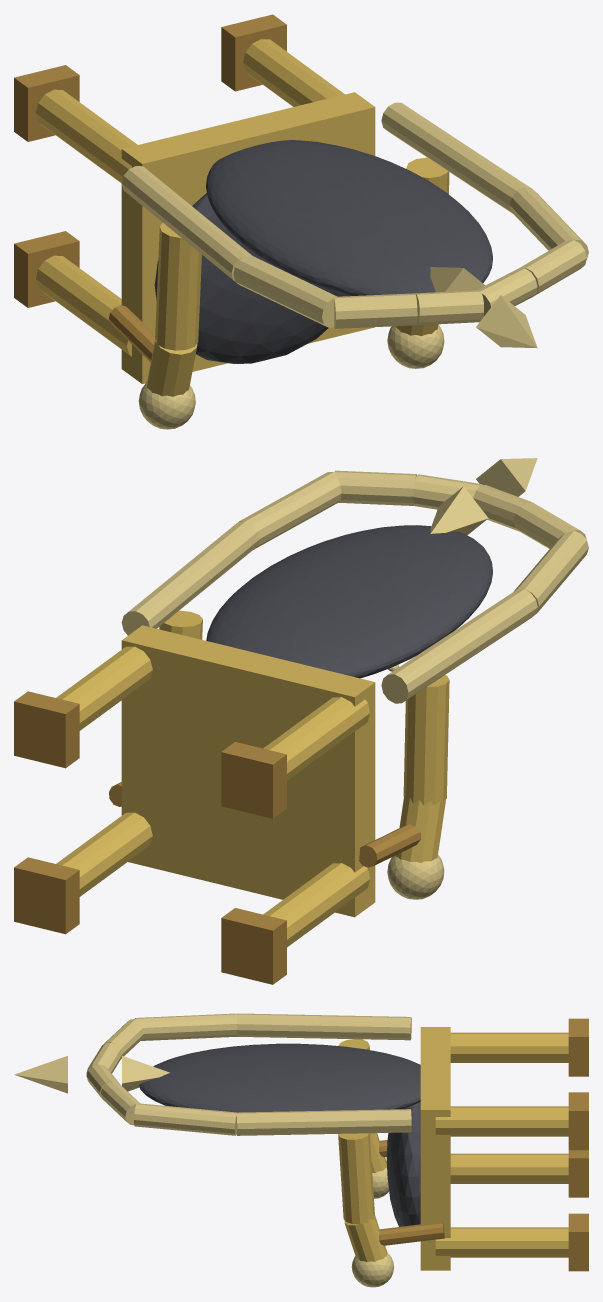
File: chair_royal_obsidian.glb
3 views of the same model, one above another, from view 1: azimuth 30°, elevation 25°; view 2: azimuth 150°, elevation 25°; view 3: azimuth 270°, elevation 25° (orthographic). The views are drawn at different scales.
Visible parts, largest first — view 1: world; view 2: world; view 3: world.
Boxes of the visible parts, x1,y1,x2,y2 form: world: (14, 14, 588, 429); world: (14, 458, 588, 984); world: (14, 1013, 588, 1287).
Size of the model in its own units: 0.9459 by 0.752 by 2.11.
